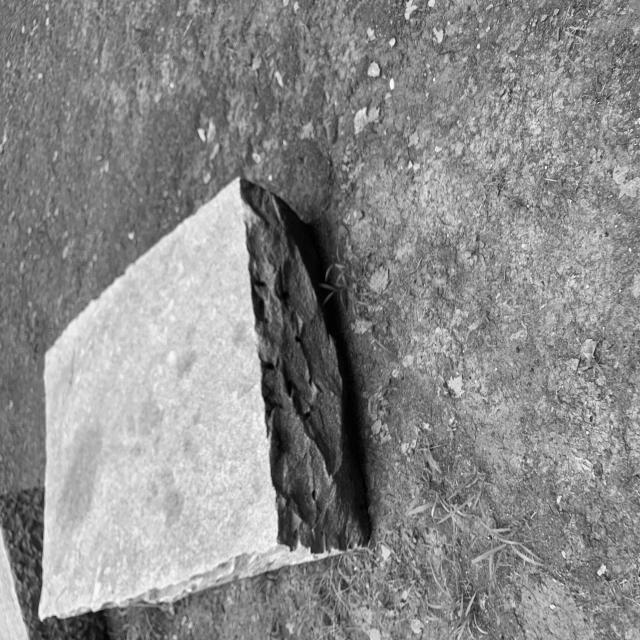Stone: (39, 178, 369, 618)
